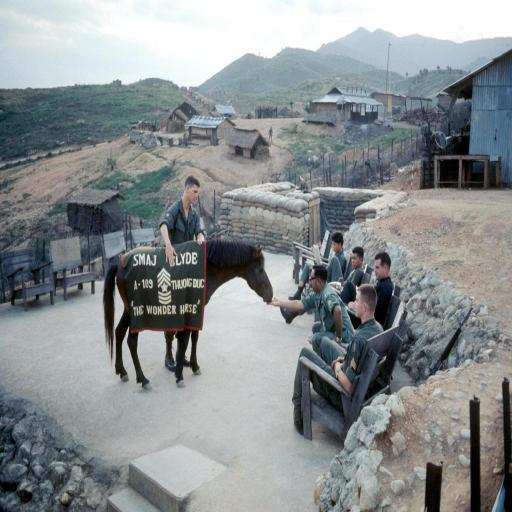horse: (104, 242, 275, 392)
